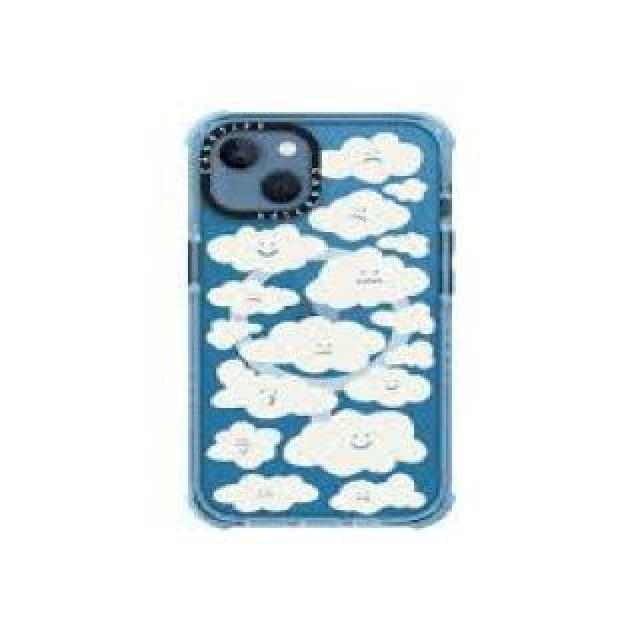smart phone: (180, 71, 492, 556)
